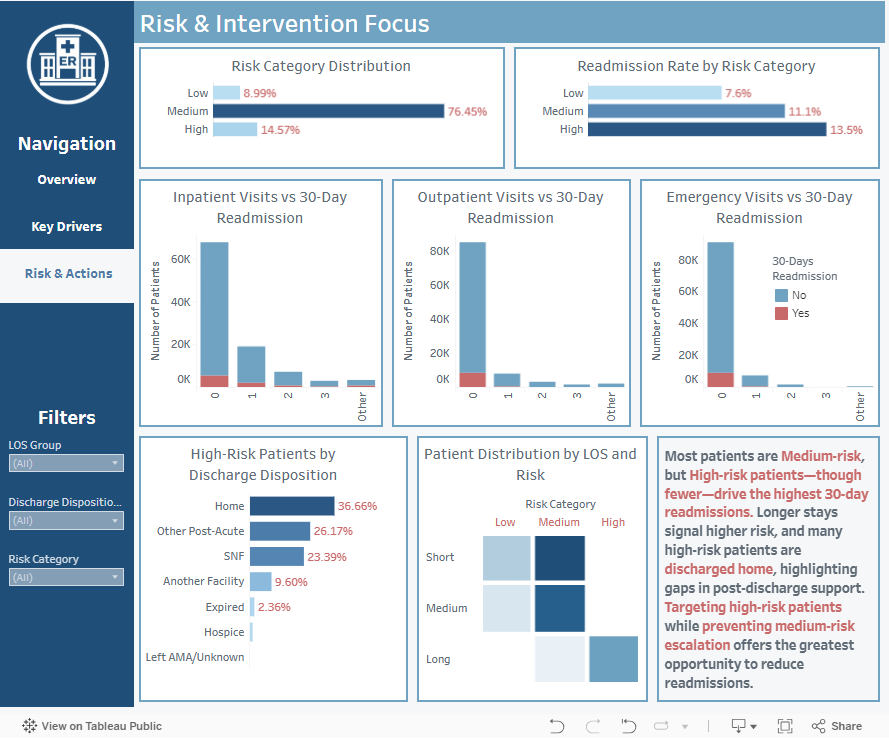

The dashboard page shown, as its layout file describes it:
{"tool":"tableau","page":{"name":"Risk & Intervention Focus","canvas":[1000,800],"ordinal":2},"visuals":[{"type":"image","param":"Image/ChatGPT_Image_Jan_13__2026__10_24_58_PM-removebg-preview.png","box":[8,8,150,142]},{"type":"title","box":[158,8,834,46]},{"type":"worksheet","title":"Risk Category Distribution","mark":"Automatic","rows":["RISK_CATEGORY"],"cols":["Calculation_0862594184802313"],"box":[158,54,417,146]},{"type":"worksheet","title":"Readmission Rate by Risk Category","mark":"Automatic","rows":["RISK_CATEGORY"],"cols":["Calculation_0862594184593416"],"box":[575,54,417,146]},{"type":"text","box":[8,150,150,29]},{"type":"dashboard-object","box":[8,179,150,52]},{"type":"worksheet","title":"Inpatient Visits vs 30-Day Readmission","mark":"Automatic","rows":["Calculation_0862594184802313"],"cols":["Calculation_0436533646897153"],"box":[158,200,281,286]},{"type":"worksheet","title":"Outpatient Visits vs 30-Day Readmission","mark":"Automatic","rows":["Calculation_0862594184802313"],"cols":["Calculation_0436533647331330"],"box":[439,200,276,286]},{"type":"worksheet","title":"Emergency Visits vs 30-Day Readmission","mark":"Automatic","rows":["Calculation_0862594184802313"],"cols":["Calculation_0436533647634435"],"box":[715,200,277,286]},{"type":"dashboard-object","box":[8,231,150,52]},{"type":"dashboard-object","box":[8,283,150,52]},{"type":"legend","title":"Inpatient Visits vs 30-Day Readmission","param":"[federated.10oliyl0d1wr1h15zaqq71486b4k].[none:READMIT_30D:ok]","box":[867,288,112,86]},{"type":"text","box":[8,343,150,107]},{"type":"text","box":[8,450,150,36]},{"type":"filter","title":"High-Risk Patients by Discharge Disposition","param":"[federated.10oliyl0d1wr1h15zaqq71486b4k].[none:LOS_GROUP:nk]","box":[8,486,150,64]},{"type":"worksheet","title":"High-Risk Patients by Discharge Disposition","mark":"Automatic","rows":["Calculation_0862594181922817"],"cols":["Calculation_0862594185138187"],"box":[158,486,309,306]},{"type":"worksheet","title":"Patient Distribution by LOS and Risk","mark":"Automatic","rows":["LOS_GROUP"],"cols":["RISK_CATEGORY"],"box":[467,486,267,306]},{"type":"text","box":[734,486,258,306]},{"type":"filter","title":"High-Risk Patients by Discharge Disposition","param":"[federated.10oliyl0d1wr1h15zaqq71486b4k].[none:Calculation_0862594181922817:nk]","box":[8,550,150,63]},{"type":"filter","title":"High-Risk Patients by Discharge Disposition","param":"[federated.10oliyl0d1wr1h15zaqq71486b4k].[none:RISK_CATEGORY:nk]","box":[8,613,150,57]},{"type":"blank","box":[8,670,150,90]}]}

Visuals, with their boxes on the page's 1000x800 design canvas (x1, y1, x2, y2). These are canvas units, not pixel positions in the 889x742 screenshot, which may show the page scaled, cropped or inside an application window:
image: left=8, top=8, right=158, bottom=150
title: left=158, top=8, right=992, bottom=54
"Risk Category Distribution" worksheet: left=158, top=54, right=575, bottom=200
"Readmission Rate by Risk Category" worksheet: left=575, top=54, right=992, bottom=200
text: left=8, top=150, right=158, bottom=179
dashboard-object: left=8, top=179, right=158, bottom=231
"Inpatient Visits vs 30-Day Readmission" worksheet: left=158, top=200, right=439, bottom=486
"Outpatient Visits vs 30-Day Readmission" worksheet: left=439, top=200, right=715, bottom=486
"Emergency Visits vs 30-Day Readmission" worksheet: left=715, top=200, right=992, bottom=486
dashboard-object: left=8, top=231, right=158, bottom=283
dashboard-object: left=8, top=283, right=158, bottom=335
"Inpatient Visits vs 30-Day Readmission" legend: left=867, top=288, right=979, bottom=374
text: left=8, top=343, right=158, bottom=450
text: left=8, top=450, right=158, bottom=486
"High-Risk Patients by Discharge Disposition" filter: left=8, top=486, right=158, bottom=550
"High-Risk Patients by Discharge Disposition" worksheet: left=158, top=486, right=467, bottom=792
"Patient Distribution by LOS and Risk" worksheet: left=467, top=486, right=734, bottom=792
text: left=734, top=486, right=992, bottom=792
"High-Risk Patients by Discharge Disposition" filter: left=8, top=550, right=158, bottom=613
"High-Risk Patients by Discharge Disposition" filter: left=8, top=613, right=158, bottom=670
blank: left=8, top=670, right=158, bottom=760
